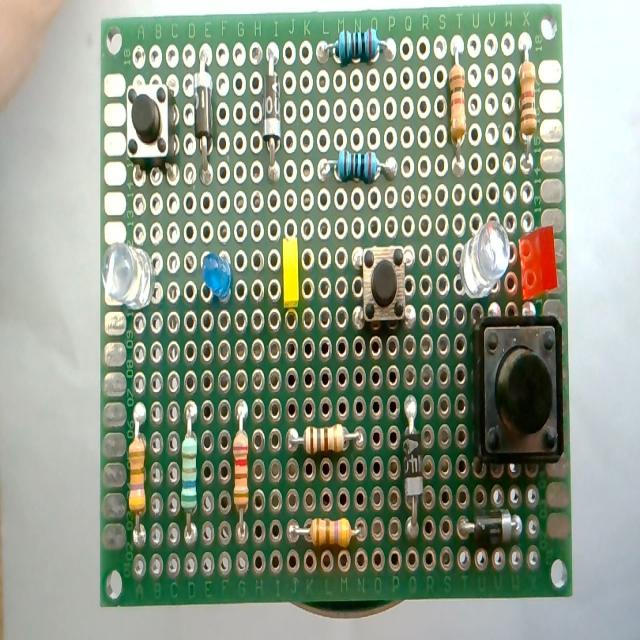diode: (192, 47, 214, 186), (403, 394, 423, 528), (262, 54, 281, 183), (464, 509, 522, 543)
led: (457, 218, 510, 299), (102, 242, 155, 310), (517, 222, 559, 302), (201, 250, 232, 301), (282, 235, 300, 309)
resistor: (318, 24, 394, 64), (322, 148, 397, 185), (128, 404, 147, 544), (518, 37, 537, 164), (288, 420, 361, 453), (448, 42, 466, 173), (233, 399, 250, 536), (182, 404, 199, 538), (289, 518, 362, 548)
switch: (471, 312, 565, 464), (358, 245, 414, 332), (126, 82, 176, 170)
